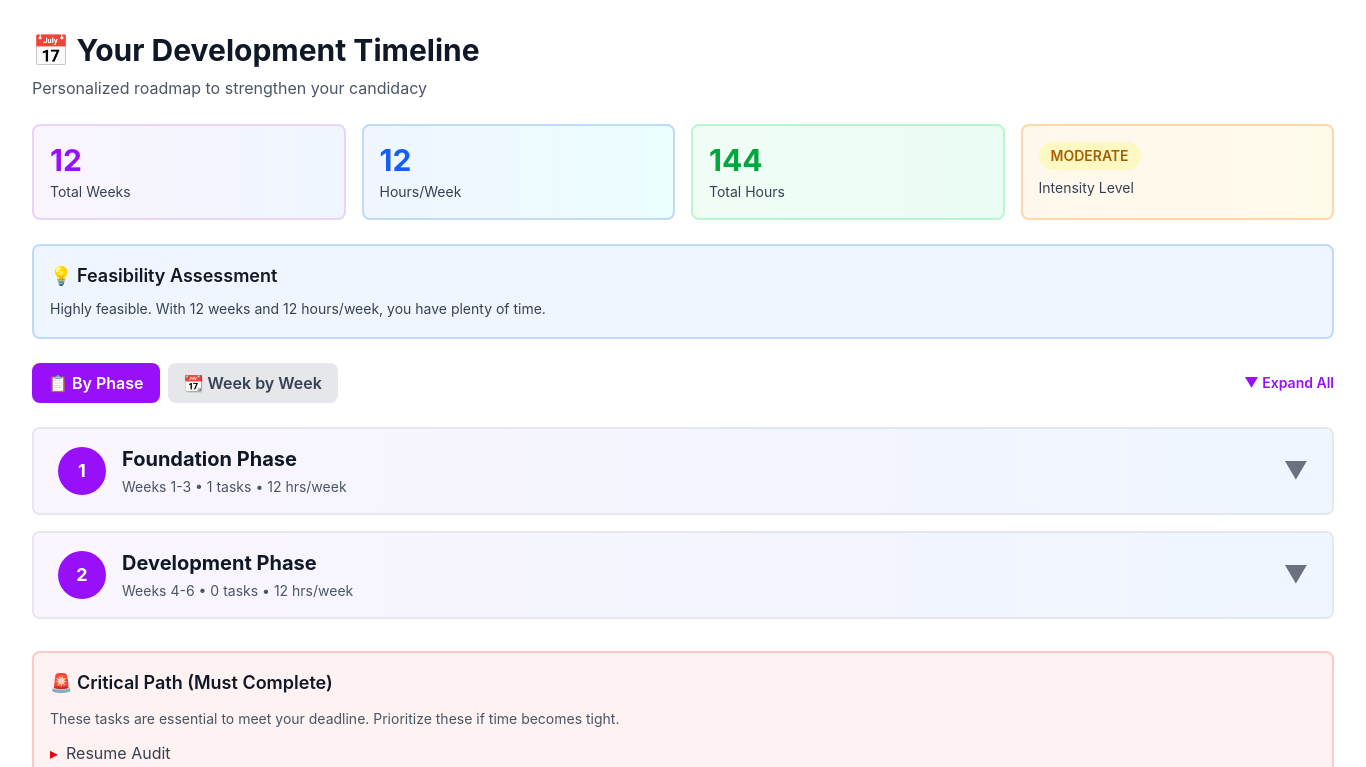
Scenario: TimelineSection › View Mode Toggle › should show weekly breakdown in weekly view
Click the button "📆 Week by Week": (253, 383) [168,363,338,403]
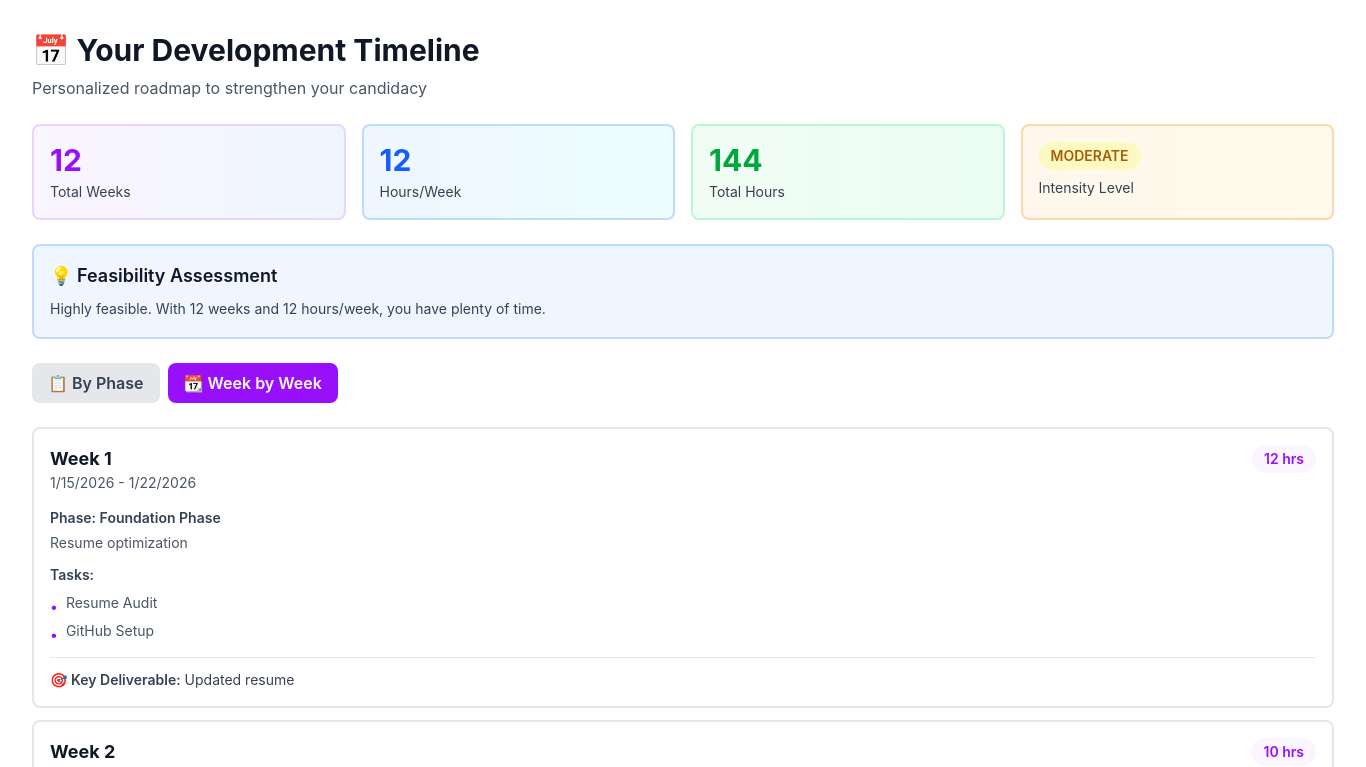
expect the heading "Week 1" is shown: met, box [50,448,112,469]
expect the heading "Week 2" is shown: met, box [50,741,115,762]
